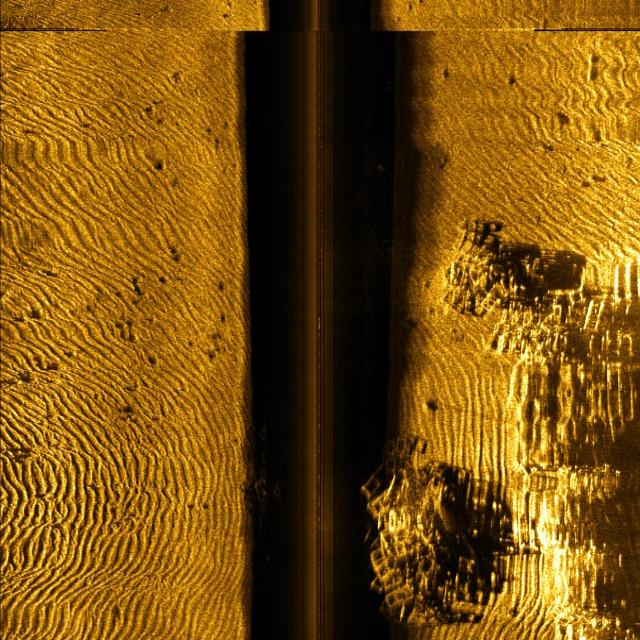artificial reef: (342, 434, 488, 622), (432, 219, 558, 359), (250, 416, 287, 558)
